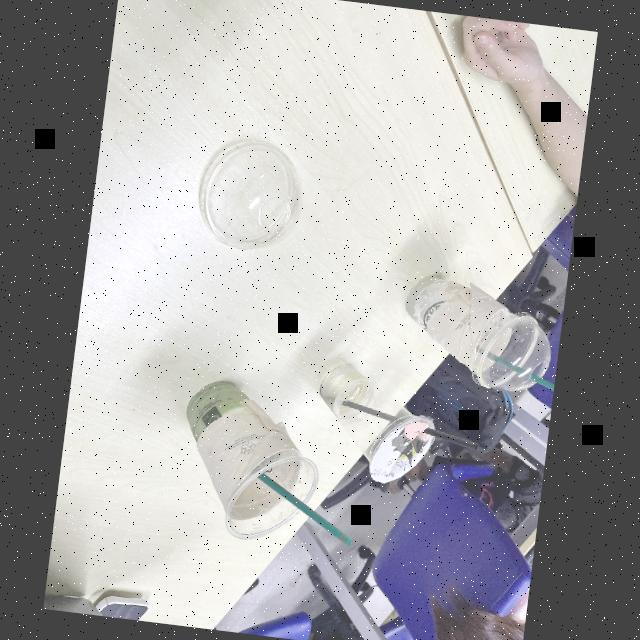plastic_cup: (153, 374, 323, 552), (296, 354, 440, 492), (384, 273, 544, 388)
plastic_cup_lid: (192, 128, 318, 256), (467, 307, 562, 401)
straw: (231, 462, 370, 560), (346, 404, 486, 458), (468, 346, 557, 404)
